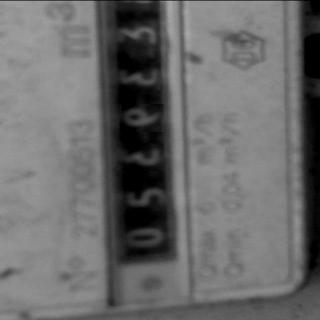1: (124, 224, 167, 253)
4: (117, 143, 164, 170), (115, 21, 160, 49), (117, 62, 161, 90)
6: (123, 184, 168, 210)
:: (120, 104, 164, 132)
